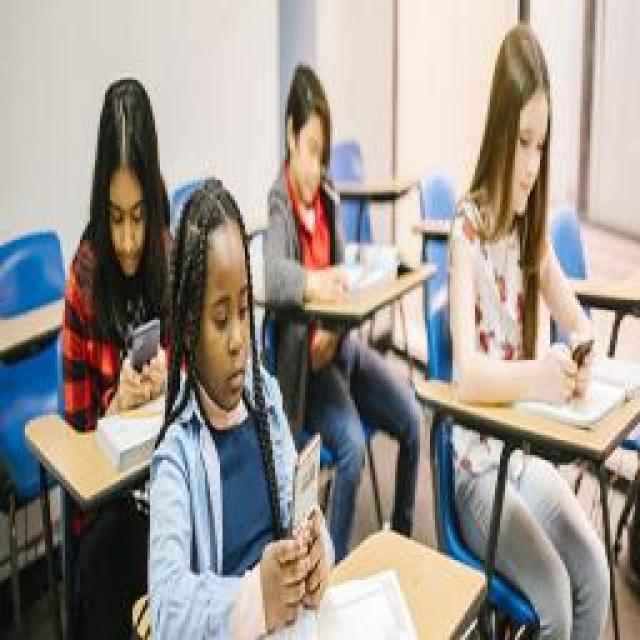phone: (148, 175, 322, 640), (448, 22, 600, 408), (65, 63, 177, 425)
study: (265, 70, 387, 300)
